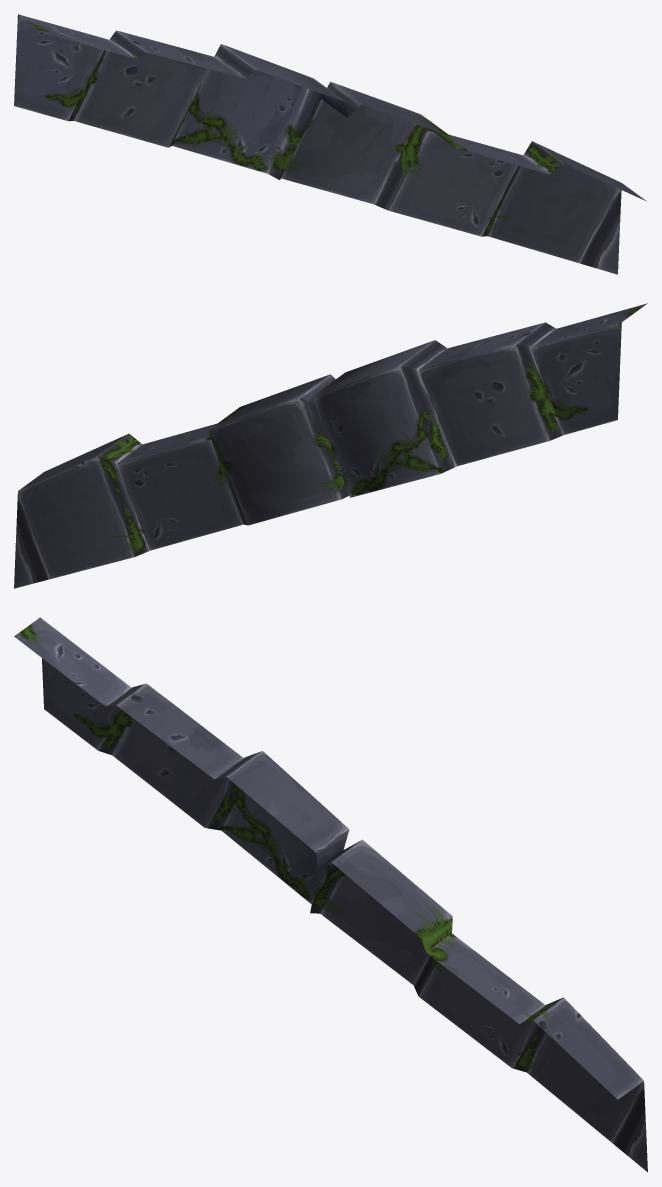
Rendered from MOD_Stairs_01_WallTrim_R_3.fbx.
3 views of the same model, one above another, from view 1: azimuth 30°, elevation 25°; view 2: azimuth 150°, elevation 25°; view 3: azimuth 330°, elevation 25° (orthographic).
Visible parts, largest first — view 1: MOD_Stairs_01_WallTrim_R_3; view 2: MOD_Stairs_01_WallTrim_R_3; view 3: MOD_Stairs_01_WallTrim_R_3.
Boxes of the visible parts, <box> form: MOD_Stairs_01_WallTrim_R_3: <box>14,14,646,274</box>; MOD_Stairs_01_WallTrim_R_3: <box>14,303,647,588</box>; MOD_Stairs_01_WallTrim_R_3: <box>14,617,647,1172</box>.
Size of what is drawn, in the model's own units: 400 by 260 by 45.69.
